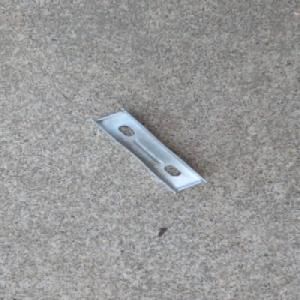ClampPart: (85, 104, 209, 195)
